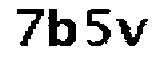5: (82, 5, 115, 51)
7: (9, 6, 46, 48)
b: (44, 4, 78, 50)
v: (115, 15, 151, 51)
